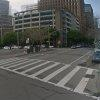Crosswalk: (9, 45, 100, 100)
